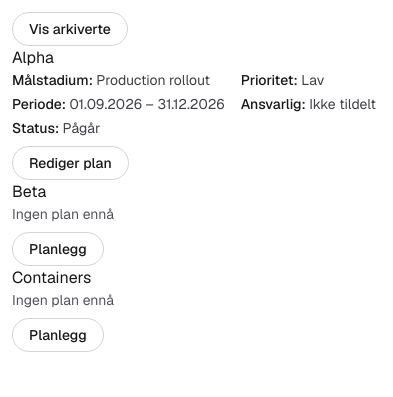
Scenario: RoadmapPlanningScope › shows an archived-load error without losing the normal plans
The width and height of the screenshot is (393, 397).
Click the button "Vis arkiverte" at x=70, y=29, box [12, 12, 128, 46]
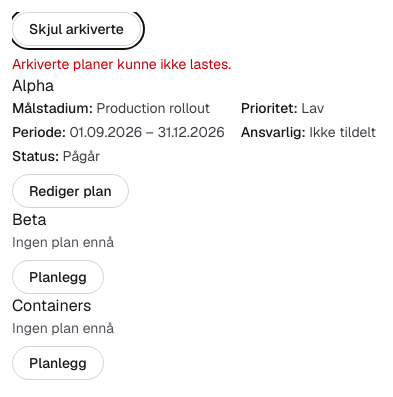
Expected: the text "Lav" is shown, [301, 99, 324, 117]
Expected: the text "Arkiverte planer kunne ikke lastes." is shown, [12, 54, 231, 74]
